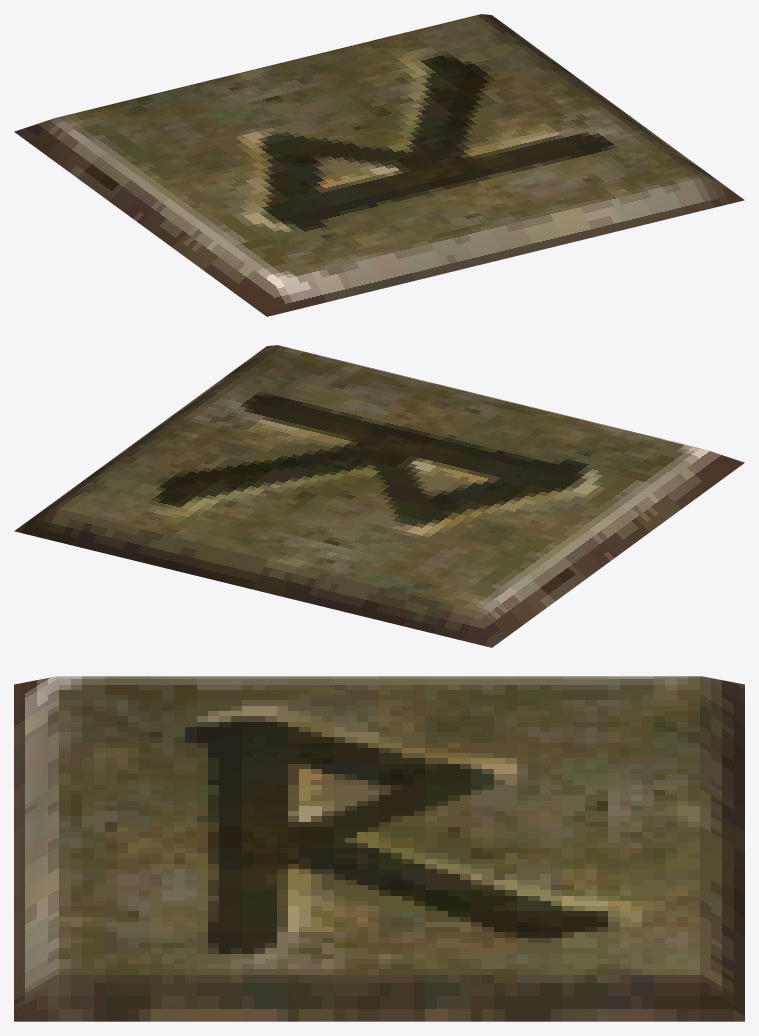
The model's file is EREBOR_RUNE_PZL_EREBOR_PZL_TILE_STATIC55.fbx.
3 renders of one model, top to bottom at view 1: azimuth 30°, elevation 25°; view 2: azimuth 150°, elevation 25°; view 3: azimuth 270°, elevation 25°, orthographic. The views are drawn at different scales.
Parts seen in each view (by area): view 1: EREBOR_RUNE_PZL_EREBOR_PZL_TILE_STATIC55; view 2: EREBOR_RUNE_PZL_EREBOR_PZL_TILE_STATIC55; view 3: EREBOR_RUNE_PZL_EREBOR_PZL_TILE_STATIC55.
Part boxes in pixels (x1=…): EREBOR_RUNE_PZL_EREBOR_PZL_TILE_STATIC55: x1=14, y1=14, x2=744, y2=316; EREBOR_RUNE_PZL_EREBOR_PZL_TILE_STATIC55: x1=14, y1=345, x2=744, y2=647; EREBOR_RUNE_PZL_EREBOR_PZL_TILE_STATIC55: x1=14, y1=676, x2=744, y2=1021.
Bounding box in the file's own units: 10240 × 370 × 9386.
Materials: 1 (1 with a texture image).
